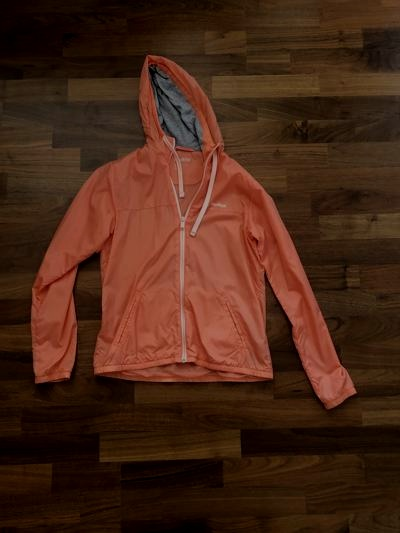Hoodie: (28, 63, 349, 440)
